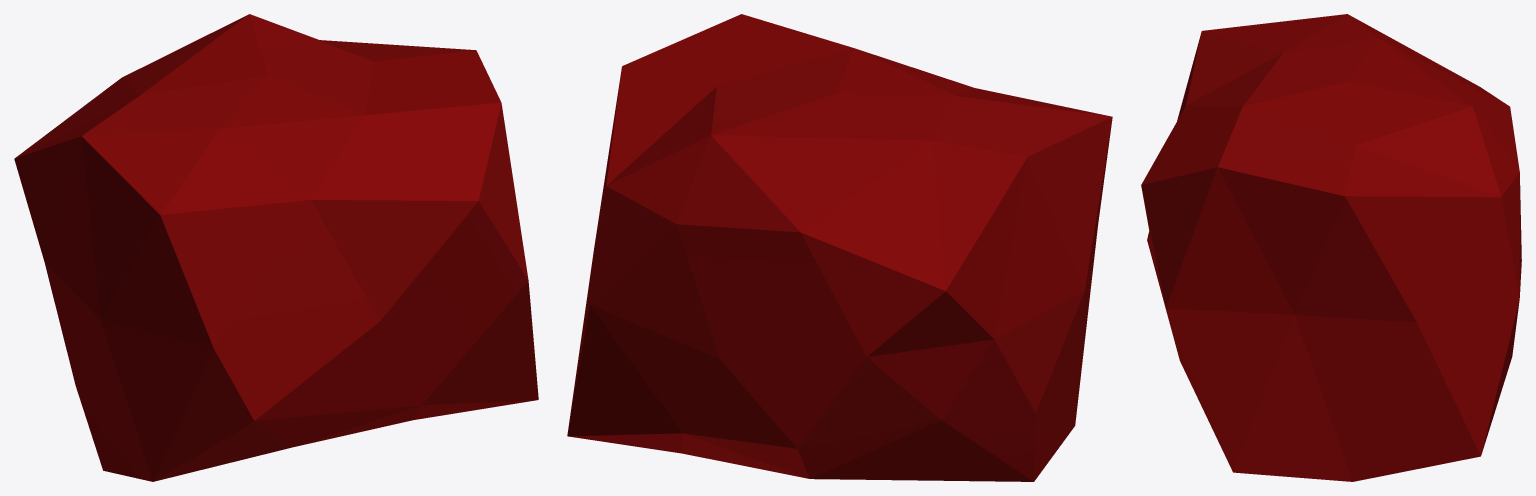
File: Resources__items__meat__PiranhaMeat.glb
The picture shows the model from 3 angles, left to right: view 1: azimuth 30°, elevation 25°; view 2: azimuth 150°, elevation 25°; view 3: azimuth 270°, elevation 25°; orthographic projection. The views are drawn at different scales.
Parts seen in each view (by area): view 1: MeatChunk; view 2: MeatChunk; view 3: MeatChunk.
Boxes of the visible parts, x1,y1,x2,y2 form: MeatChunk: (14, 14, 538, 481); MeatChunk: (567, 14, 1112, 481); MeatChunk: (1141, 14, 1521, 481).
Size of the model in its own units: 0.3552 by 0.2866 by 0.3137.
1 material, 1 textured.
